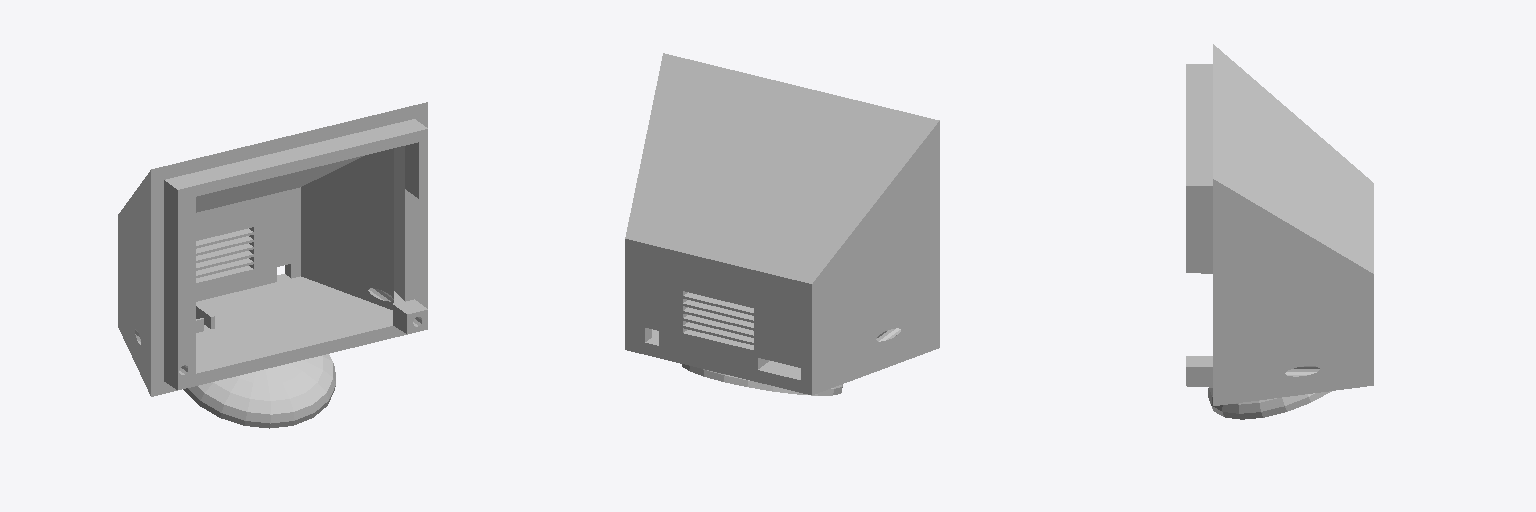
File: TV_BACK_AND_BOTTOM.obj
3 views of the same model, side by side, from view 1: azimuth 30°, elevation 25°; view 2: azimuth 150°, elevation 25°; view 3: azimuth 270°, elevation 25° (orthographic).
Visible parts, largest first — view 1: pasted__polySurface5 group, pSphere2; view 2: pasted__polySurface5 group, pSphere2; view 3: pasted__polySurface5 group, pSphere2.
Part boxes in pixels (bbox=[...]): pasted__polySurface5 group: bbox=[118, 102, 427, 396]; pSphere2: bbox=[183, 354, 335, 428]; pasted__polySurface5 group: bbox=[625, 53, 939, 394]; pSphere2: bbox=[682, 364, 842, 395]; pasted__polySurface5 group: bbox=[1186, 44, 1373, 405]; pSphere2: bbox=[1208, 388, 1331, 419].
Bounding box in the file's own units: 117 × 117 × 69.